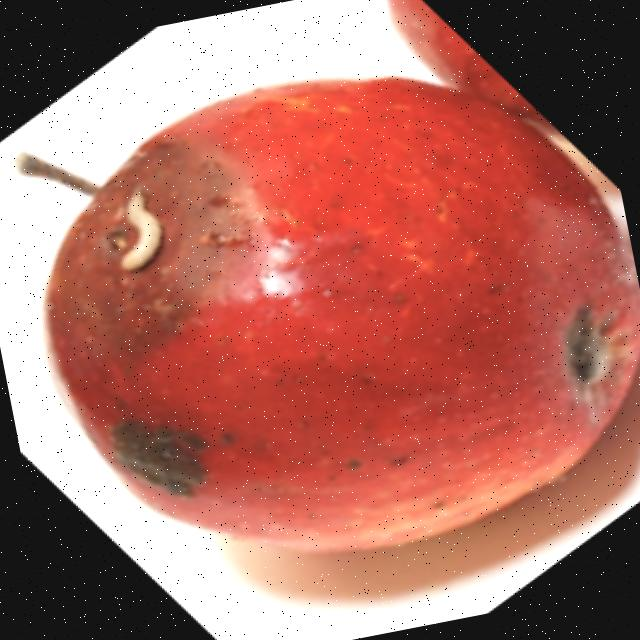Rotten: (0, 10, 640, 605)
